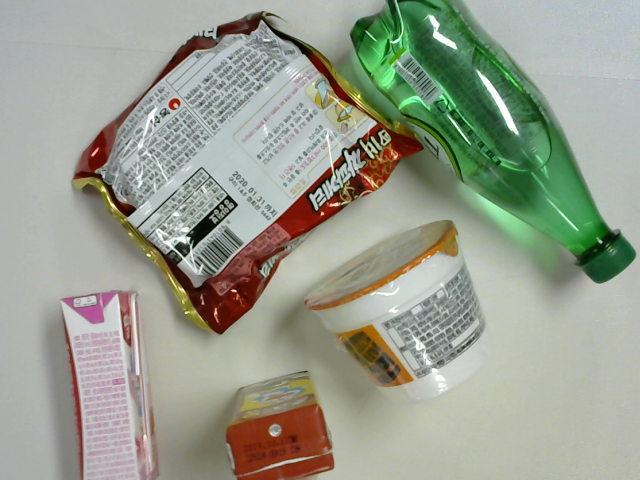Choco_E_Mong: (220, 371, 337, 480)
Sichuan_Chapaghetti: (71, 42, 376, 260)
Strawberry_E_Mong: (54, 284, 169, 480)
Treviraim_500ml: (357, 9, 621, 274)
Udongmini: (329, 240, 484, 374)
